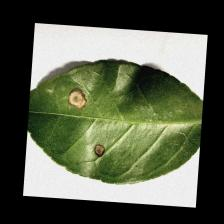canker: (62, 80, 98, 122)
